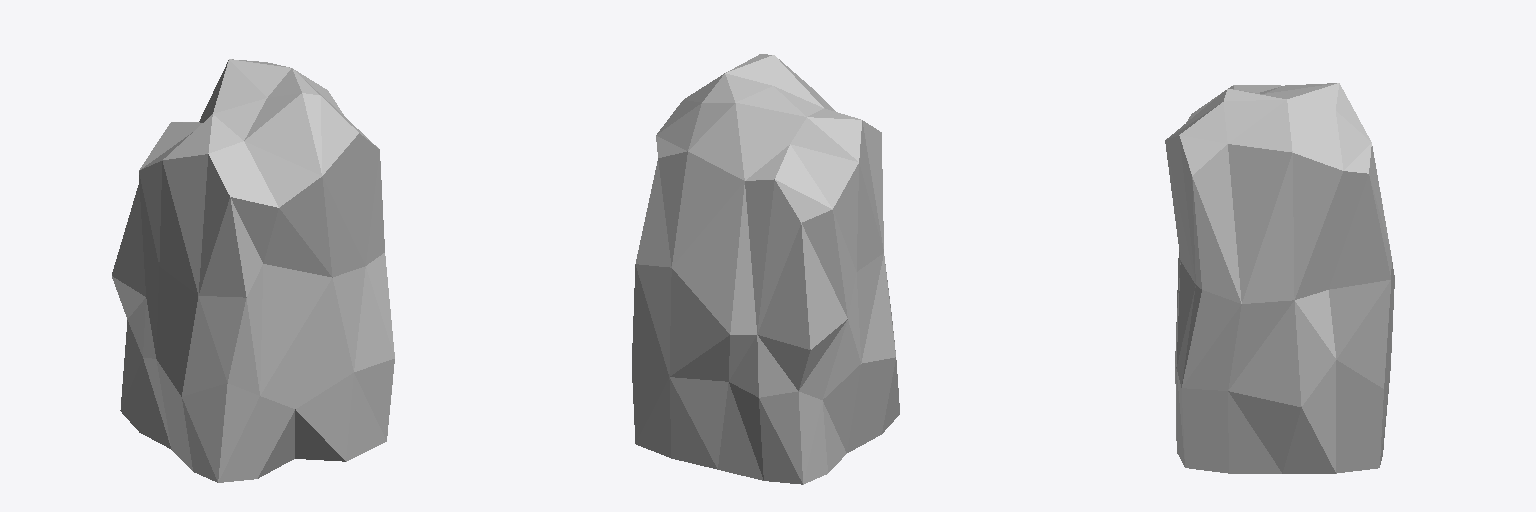
File: obstacle2.obj
3 renders of one model, left to right at view 1: azimuth 30°, elevation 25°; view 2: azimuth 150°, elevation 25°; view 3: azimuth 270°, elevation 25°, orthographic.
Parts seen in each view (by area): view 1: Cube.002_Cube.003; view 2: Cube.002_Cube.003; view 3: Cube.002_Cube.003.
Part boxes in pixels (x1,y1,x2,y2): Cube.002_Cube.003: (112,59,394,482); Cube.002_Cube.003: (632,54,899,484); Cube.002_Cube.003: (1165,83,1394,473).
Bounding box in the file's own units: 2.18 × 3.65 × 2.15.